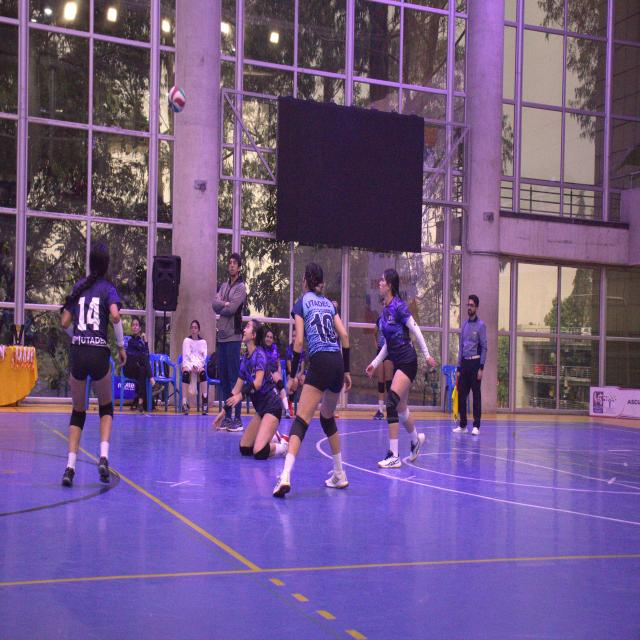volleyball: (168, 85, 186, 112)
